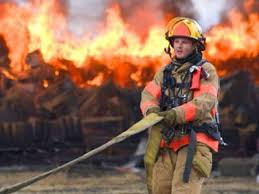emergent: (142, 16, 219, 193)
